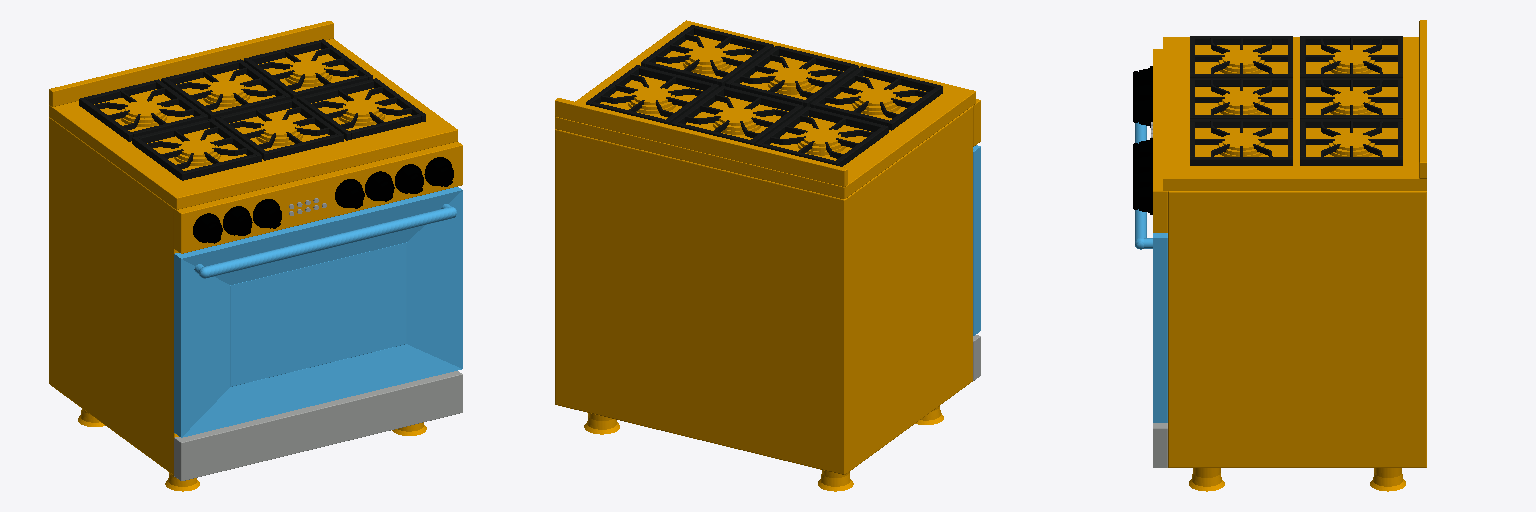
robot.urdf — object_101917:
<?xml version='1.0' encoding='utf-8'?>
<robot name="object_101917">
  <link name="fixed_root">
    <visual name="body">
      <origin xyz="0 0 0" rpy="0 0 0" />
      <geometry>
        <mesh filename="meshes/mesh_000.obj" scale="1 1 1" />
      </geometry>
    </visual>
    <visual name="lower_fascia">
      <origin xyz="0 0 0" rpy="0 0 0" />
      <geometry>
        <mesh filename="meshes/mesh_001.obj" scale="1 1 1" />
      </geometry>
      <material name="mesh_001_material">
        <color rgba="0.6800000071525574 0.6899999976158142 0.6800000071525574 1.0" />
      </material>
    </visual>
    <visual name="button_1">
      <origin xyz="0 0 0" rpy="0 0 0" />
      <geometry>
        <mesh filename="meshes/mesh_002.obj" scale="1 1 1" />
      </geometry>
      <material name="mesh_002_material">
        <color rgba="0.6800000071525574 0.6899999976158142 0.6800000071525574 1.0" />
      </material>
    </visual>
    <visual name="button_2">
      <origin xyz="0 0 0" rpy="0 0 0" />
      <geometry>
        <mesh filename="meshes/mesh_003.obj" scale="1 1 1" />
      </geometry>
      <material name="mesh_003_material">
        <color rgba="0.6800000071525574 0.6899999976158142 0.6800000071525574 1.0" />
      </material>
    </visual>
    <visual name="button_3">
      <origin xyz="0 0 0" rpy="0 0 0" />
      <geometry>
        <mesh filename="meshes/mesh_004.obj" scale="1 1 1" />
      </geometry>
      <material name="mesh_004_material">
        <color rgba="0.6800000071525574 0.6899999976158142 0.6800000071525574 1.0" />
      </material>
    </visual>
    <visual name="button_4">
      <origin xyz="0 0 0" rpy="0 0 0" />
      <geometry>
        <mesh filename="meshes/mesh_005.obj" scale="1 1 1" />
      </geometry>
      <material name="mesh_005_material">
        <color rgba="0.6800000071525574 0.6899999976158142 0.6800000071525574 1.0" />
      </material>
    </visual>
    <visual name="button_5">
      <origin xyz="0 0 0" rpy="0 0 0" />
      <geometry>
        <mesh filename="meshes/mesh_006.obj" scale="1 1 1" />
      </geometry>
      <material name="mesh_006_material">
        <color rgba="0.6800000071525574 0.6899999976158142 0.6800000071525574 1.0" />
      </material>
    </visual>
    <visual name="button_6">
      <origin xyz="0 0 0" rpy="0 0 0" />
      <geometry>
        <mesh filename="meshes/mesh_007.obj" scale="1 1 1" />
      </geometry>
      <material name="mesh_007_material">
        <color rgba="0.6800000071525574 0.6899999976158142 0.6800000071525574 1.0" />
      </material>
    </visual>
    <visual name="button_7">
      <origin xyz="0 0 0" rpy="0 0 0" />
      <geometry>
        <mesh filename="meshes/mesh_008.obj" scale="1 1 1" />
      </geometry>
      <material name="mesh_008_material">
        <color rgba="0.6800000071525574 0.6899999976158142 0.6800000071525574 1.0" />
      </material>
    </visual>
    <visual name="button_8">
      <origin xyz="0 0 0" rpy="0 0 0" />
      <geometry>
        <mesh filename="meshes/mesh_009.obj" scale="1 1 1" />
      </geometry>
      <material name="mesh_009_material">
        <color rgba="0.6800000071525574 0.6899999976158142 0.6800000071525574 1.0" />
      </material>
    </visual>
    <visual name="button_9">
      <origin xyz="0 0 0" rpy="0 0 0" />
      <geometry>
        <mesh filename="meshes/mesh_010.obj" scale="1 1 1" />
      </geometry>
      <material name="mesh_010_material">
        <color rgba="0.6800000071525574 0.6899999976158142 0.6800000071525574 1.0" />
      </material>
    </visual>
    <visual name="burner_front_left">
      <origin xyz="0 0 0" rpy="0 0 0" />
      <geometry>
        <mesh filename="meshes/mesh_011.obj" scale="1 1 1" />
      </geometry>
    </visual>
    <visual name="burner_front_center">
      <origin xyz="0 0 0" rpy="0 0 0" />
      <geometry>
        <mesh filename="meshes/mesh_012.obj" scale="1 1 1" />
      </geometry>
    </visual>
    <visual name="burner_front_right">
      <origin xyz="0 0 0" rpy="0 0 0" />
      <geometry>
        <mesh filename="meshes/mesh_013.obj" scale="1 1 1" />
      </geometry>
    </visual>
    <visual name="burner_rear_left">
      <origin xyz="0 0 0" rpy="0 0 0" />
      <geometry>
        <mesh filename="meshes/mesh_014.obj" scale="1 1 1" />
      </geometry>
    </visual>
    <visual name="burner_rear_center">
      <origin xyz="0 0 0" rpy="0 0 0" />
      <geometry>
        <mesh filename="meshes/mesh_015.obj" scale="1 1 1" />
      </geometry>
    </visual>
    <visual name="burner_rear_right">
      <origin xyz="0 0 0" rpy="0 0 0" />
      <geometry>
        <mesh filename="meshes/mesh_016.obj" scale="1 1 1" />
      </geometry>
    </visual>
    <visual name="grate_front_left">
      <origin xyz="0 0 0" rpy="0 0 0" />
      <geometry>
        <mesh filename="meshes/mesh_017.obj" scale="1 1 1" />
      </geometry>
      <material name="mesh_017_material">
        <color rgba="0.11500000208616257 0.12200000137090683 0.11999999731779099 1.0" />
      </material>
    </visual>
    <visual name="grate_front_center">
      <origin xyz="0 0 0" rpy="0 0 0" />
      <geometry>
        <mesh filename="meshes/mesh_018.obj" scale="1 1 1" />
      </geometry>
      <material name="mesh_018_material">
        <color rgba="0.11500000208616257 0.12200000137090683 0.11999999731779099 1.0" />
      </material>
    </visual>
    <visual name="grate_front_right">
      <origin xyz="0 0 0" rpy="0 0 0" />
      <geometry>
        <mesh filename="meshes/mesh_019.obj" scale="1 1 1" />
      </geometry>
      <material name="mesh_019_material">
        <color rgba="0.11500000208616257 0.12200000137090683 0.11999999731779099 1.0" />
      </material>
    </visual>
    <visual name="grate_rear_left">
      <origin xyz="0 0 0" rpy="0 0 0" />
      <geometry>
        <mesh filename="meshes/mesh_020.obj" scale="1 1 1" />
      </geometry>
      <material name="mesh_020_material">
        <color rgba="0.11500000208616257 0.12200000137090683 0.11999999731779099 1.0" />
      </material>
    </visual>
    <visual name="grate_rear_center">
      <origin xyz="0 0 0" rpy="0 0 0" />
      <geometry>
        <mesh filename="meshes/mesh_021.obj" scale="1 1 1" />
      </geometry>
      <material name="mesh_021_material">
        <color rgba="0.11500000208616257 0.12200000137090683 0.11999999731779099 1.0" />
      </material>
    </visual>
    <visual name="grate_rear_right">
      <origin xyz="0 0 0" rpy="0 0 0" />
      <geometry>
        <mesh filename="meshes/mesh_022.obj" scale="1 1 1" />
      </geometry>
      <material name="mesh_022_material">
        <color rgba="0.11500000208616257 0.12200000137090683 0.11999999731779099 1.0" />
      </material>
    </visual>
  </link>
  <link name="link_oven_door_hinge">
    <visual name="oven_door">
      <origin xyz="0 0 0" rpy="0 0 0" />
      <geometry>
        <mesh filename="meshes/mesh_023.obj" scale="1 1 1" />
      </geometry>
    </visual>
  </link>
  <link name="link_knob_4_rotation">
    <visual name="knob_4">
      <origin xyz="0 0 0" rpy="0 0 0" />
      <geometry>
        <mesh filename="meshes/mesh_024.obj" scale="1 1 1" />
      </geometry>
      <material name="mesh_024_material">
        <color rgba="0.006000000052154064 0.007000000216066837 0.007000000216066837 1.0" />
      </material>
    </visual>
  </link>
  <link name="link_knob_5_rotation">
    <visual name="knob_5">
      <origin xyz="0 0 0" rpy="0 0 0" />
      <geometry>
        <mesh filename="meshes/mesh_025.obj" scale="1 1 1" />
      </geometry>
      <material name="mesh_025_material">
        <color rgba="0.006000000052154064 0.007000000216066837 0.007000000216066837 1.0" />
      </material>
    </visual>
  </link>
  <link name="link_knob_6_rotation">
    <visual name="knob_6">
      <origin xyz="0 0 0" rpy="0 0 0" />
      <geometry>
        <mesh filename="meshes/mesh_026.obj" scale="1 1 1" />
      </geometry>
      <material name="mesh_026_material">
        <color rgba="0.006000000052154064 0.007000000216066837 0.007000000216066837 1.0" />
      </material>
    </visual>
  </link>
  <link name="link_knob_7_rotation">
    <visual name="knob_7">
      <origin xyz="0 0 0" rpy="0 0 0" />
      <geometry>
        <mesh filename="meshes/mesh_027.obj" scale="1 1 1" />
      </geometry>
      <material name="mesh_027_material">
        <color rgba="0.006000000052154064 0.007000000216066837 0.007000000216066837 1.0" />
      </material>
    </visual>
  </link>
  <link name="link_knob_1_rotation">
    <visual name="knob_1">
      <origin xyz="0 0 0" rpy="0 0 0" />
      <geometry>
        <mesh filename="meshes/mesh_028.obj" scale="1 1 1" />
      </geometry>
      <material name="mesh_028_material">
        <color rgba="0.006000000052154064 0.007000000216066837 0.007000000216066837 1.0" />
      </material>
    </visual>
  </link>
  <link name="link_knob_2_rotation">
    <visual name="knob_2">
      <origin xyz="0 0 0" rpy="0 0 0" />
      <geometry>
        <mesh filename="meshes/mesh_029.obj" scale="1 1 1" />
      </geometry>
      <material name="mesh_029_material">
        <color rgba="0.006000000052154064 0.007000000216066837 0.007000000216066837 1.0" />
      </material>
    </visual>
  </link>
  <link name="link_knob_3_rotation">
    <visual name="knob_3">
      <origin xyz="0 0 0" rpy="0 0 0" />
      <geometry>
        <mesh filename="meshes/mesh_030.obj" scale="1 1 1" />
      </geometry>
      <material name="mesh_030_material">
        <color rgba="0.006000000052154064 0.007000000216066837 0.007000000216066837 1.0" />
      </material>
    </visual>
  </link>
  <joint name="oven_door_hinge" type="revolute">
    <parent link="fixed_root" />
    <child link="link_oven_door_hinge" />
    <origin xyz="-2.71050543121e-20 -0.320349991322 0.222000002861" rpy="0 0 0" />
    <axis xyz="1 1.51988240265e-22 0" />
    <limit lower="0.0" upper="0.5235987755982988" effort="0" velocity="0" />
  </joint>
  <joint name="knob_4_rotation" type="revolute">
    <parent link="fixed_root" />
    <child link="link_knob_4_rotation" />
    <origin xyz="0.0837199985981 -0.361299991608 0.852999985218" rpy="0 0 0" />
    <axis xyz="-7.78985477404e-22 -1 0" />
    <limit lower="0.0" upper="0.5235987755982988" effort="0" velocity="0" />
  </joint>
  <joint name="knob_5_rotation" type="revolute">
    <parent link="fixed_root" />
    <child link="link_knob_5_rotation" />
    <origin xyz="0.180179998279 -0.361299991608 0.852999985218" rpy="0 0 0" />
    <axis xyz="-7.78985477404e-22 -1 0" />
    <limit lower="0.0" upper="0.5235987755982988" effort="0" velocity="0" />
  </joint>
  <joint name="knob_6_rotation" type="revolute">
    <parent link="fixed_root" />
    <child link="link_knob_6_rotation" />
    <origin xyz="0.276639997959 -0.361299991608 0.852999985218" rpy="0 0 0" />
    <axis xyz="-7.78985477404e-22 -1 0" />
    <limit lower="0.0" upper="0.5235987755982988" effort="0" velocity="0" />
  </joint>
  <joint name="knob_7_rotation" type="revolute">
    <parent link="fixed_root" />
    <child link="link_knob_7_rotation" />
    <origin xyz="0.373100012541 -0.361299991608 0.852999985218" rpy="0 0 0" />
    <axis xyz="-7.78985477404e-22 -1 0" />
    <limit lower="0.0" upper="0.5235987755982988" effort="0" velocity="0" />
  </joint>
  <joint name="knob_1_rotation" type="revolute">
    <parent link="fixed_root" />
    <child link="link_knob_1_rotation" />
    <origin xyz="-0.374920010567 -0.361299991608 0.852999985218" rpy="0 0 0" />
    <axis xyz="-7.78985477404e-22 -1 0" />
    <limit lower="0.0" upper="0.20943951023931956" effort="0" velocity="0" />
  </joint>
  <joint name="knob_2_rotation" type="revolute">
    <parent link="fixed_root" />
    <child link="link_knob_2_rotation" />
    <origin xyz="-0.278459995985 -0.361299991608 0.852999985218" rpy="0 0 0" />
    <axis xyz="-7.78985477404e-22 -1 0" />
    <limit lower="0.0" upper="0.20943951023931956" effort="0" velocity="0" />
  </joint>
  <joint name="knob_3_rotation" type="revolute">
    <parent link="fixed_root" />
    <child link="link_knob_3_rotation" />
    <origin xyz="-0.181999996305 -0.361299991608 0.852999985218" rpy="0 0 0" />
    <axis xyz="-7.78985477404e-22 -1 0" />
    <limit lower="0.0" upper="0.20943951023931956" effort="0" velocity="0" />
  </joint>
</robot>

--- What the picture shows (computed from the rendered views, not written in the file) ---
The picture shows the robot from 3 angles, left to right: view 1: azimuth 30°, elevation 25°; view 2: azimuth 150°, elevation 25°; view 3: azimuth 270°, elevation 25°; orthographic projection.
Model object_101917 with 9 links and 8 joints (8 revolute), rooted at fixed_root, posed every joint at zero.
Visible links, largest first — view 1: fixed_root, link_oven_door_hinge, link_knob_5_rotation, link_knob_1_rotation, link_knob_2_rotation, link_knob_4_rotation, link_knob_6_rotation, link_knob_7_rotation, link_knob_3_rotation; view 2: fixed_root, link_oven_door_hinge; view 3: fixed_root, link_oven_door_hinge.
Boxes of the visible links, bbox=[...] form: fixed_root: bbox=[49, 21, 462, 491]; link_oven_door_hinge: bbox=[174, 187, 462, 437]; link_knob_5_rotation: bbox=[365, 171, 394, 201]; link_knob_1_rotation: bbox=[193, 213, 222, 243]; link_knob_2_rotation: bbox=[223, 206, 252, 235]; link_knob_4_rotation: bbox=[335, 179, 364, 208]; link_knob_6_rotation: bbox=[395, 164, 423, 193]; link_knob_7_rotation: bbox=[424, 157, 453, 186]; link_knob_3_rotation: bbox=[253, 199, 281, 228]; fixed_root: bbox=[555, 20, 980, 491]; link_oven_door_hinge: bbox=[973, 145, 980, 335]; fixed_root: bbox=[1151, 20, 1426, 491]; link_oven_door_hinge: bbox=[1135, 122, 1167, 422].
Bounding box of the posed robot: 0.91 × 0.7953 × 1 m (x, y, z).
Meshes: 31 distinct files referenced, 31 mesh visuals loaded (31 OBJ).
